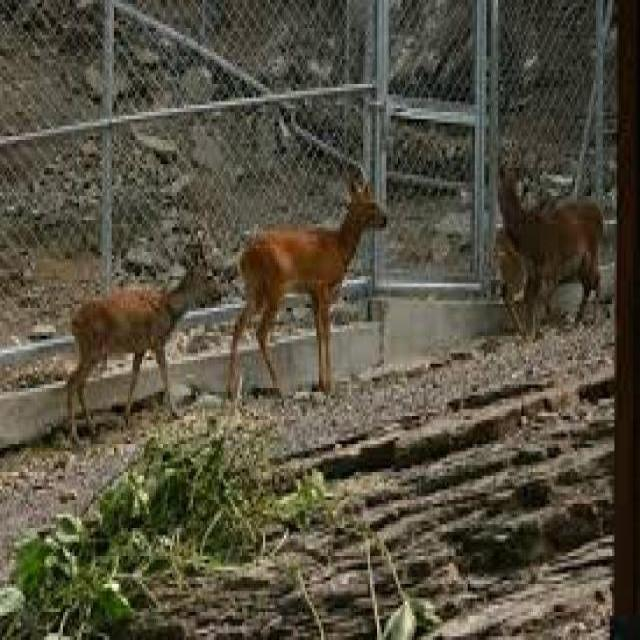deer: (222, 103, 402, 406), (58, 236, 230, 448), (486, 132, 615, 336)
